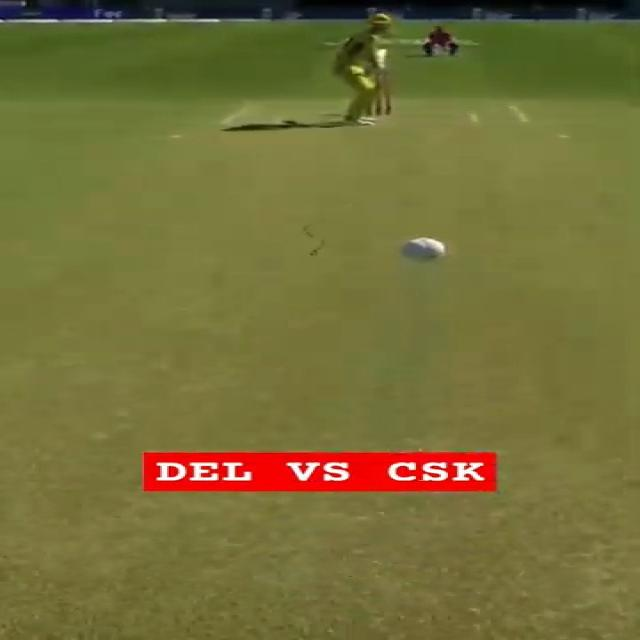ball: (396, 236, 448, 264)
